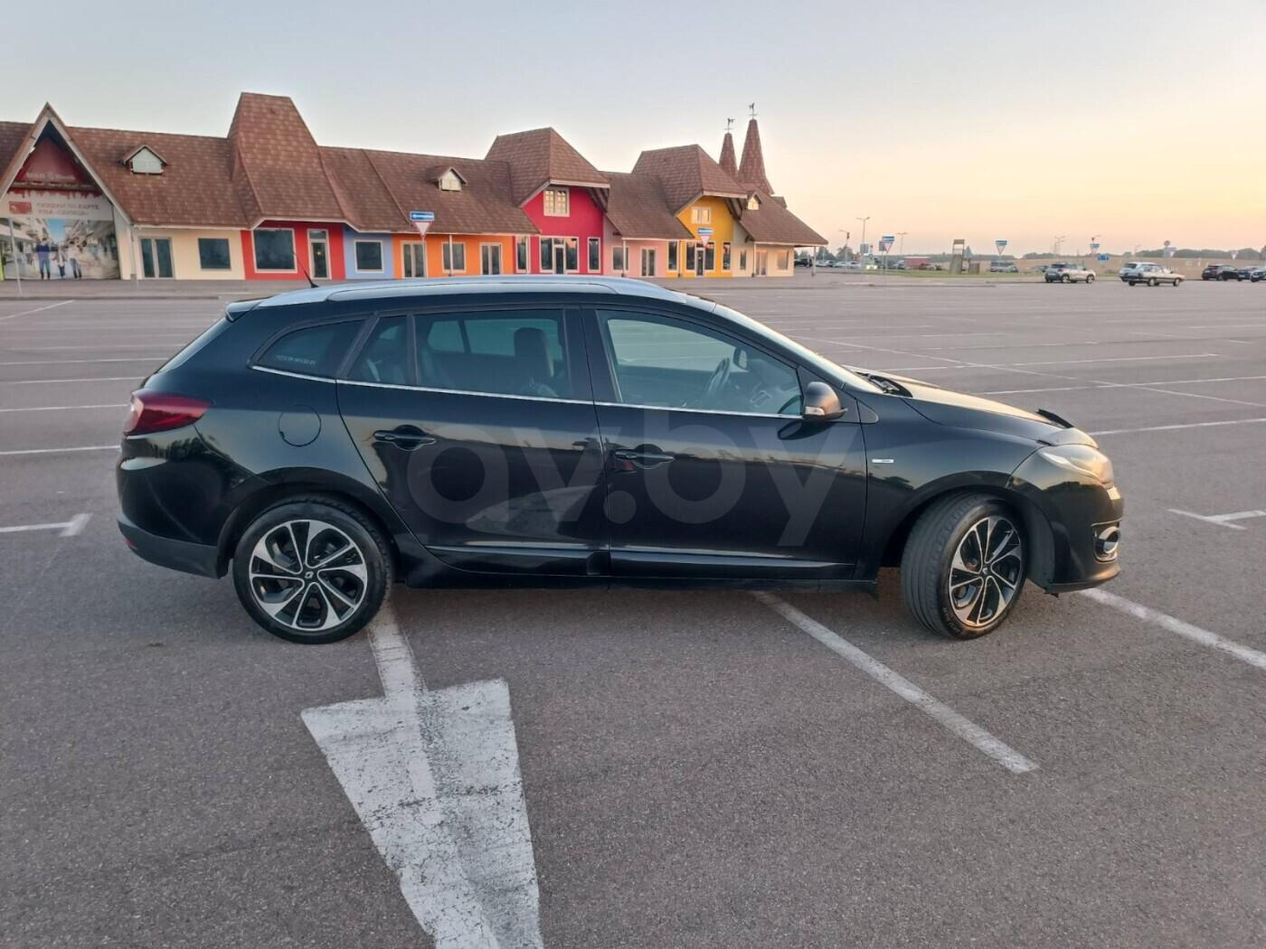Megane_2014-2016: (109, 272, 1130, 648)
